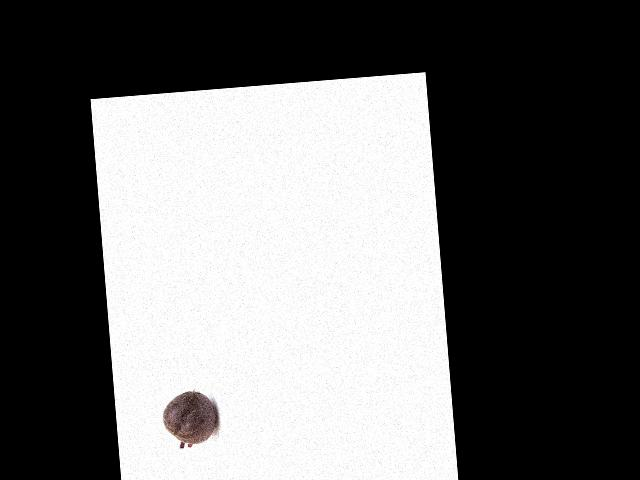beet: (160, 388, 219, 448)
